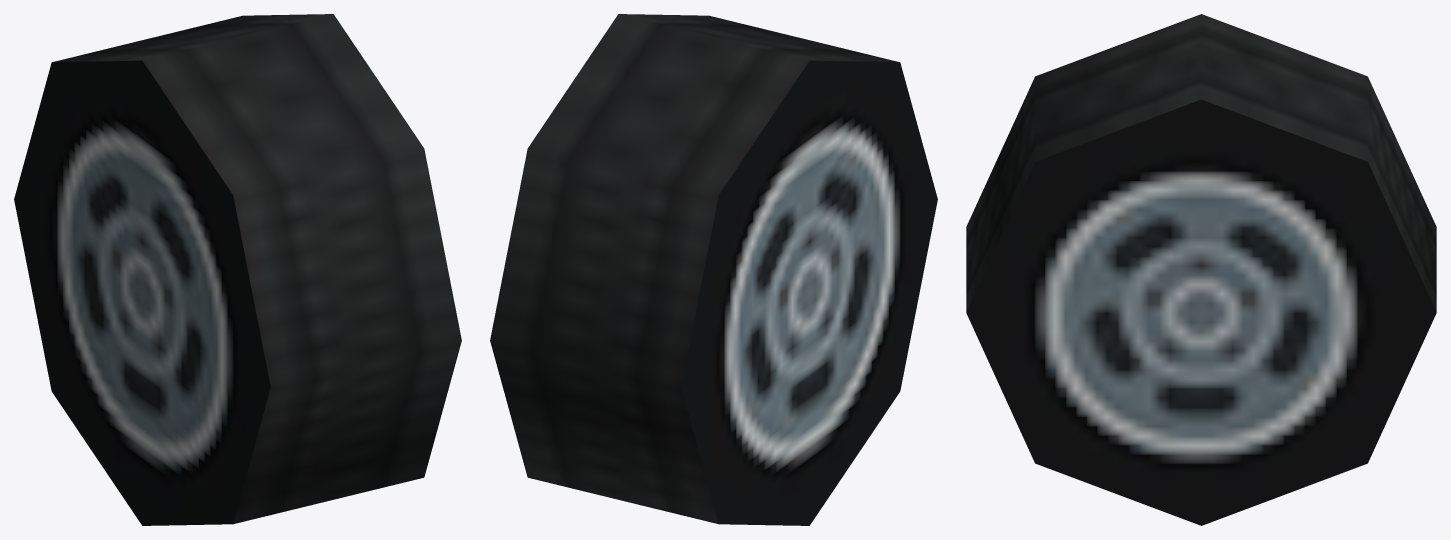
Rendered from BlueCarWheel.fbx.
3 renders of one model, left to right at view 1: azimuth 30°, elevation 25°; view 2: azimuth 150°, elevation 25°; view 3: azimuth 270°, elevation 25°, orthographic. The views are drawn at different scales.
Parts seen in each view (by area): view 1: Cylinder; view 2: Cylinder; view 3: Cylinder.
Part boxes in pixels (x1,y1,x2,y2): Cylinder: (14,14,461,525); Cylinder: (490,14,937,525); Cylinder: (966,14,1436,525).
Size of the model in its own units: 0.8597 by 2 by 2.
1 material, 1 textured.
